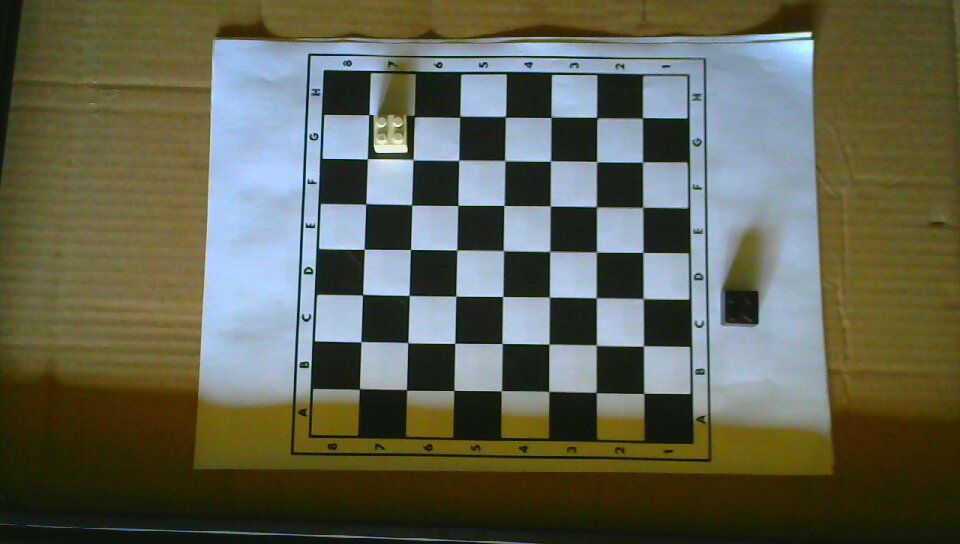bp: (720, 289, 760, 328)
wp: (372, 112, 407, 154)
